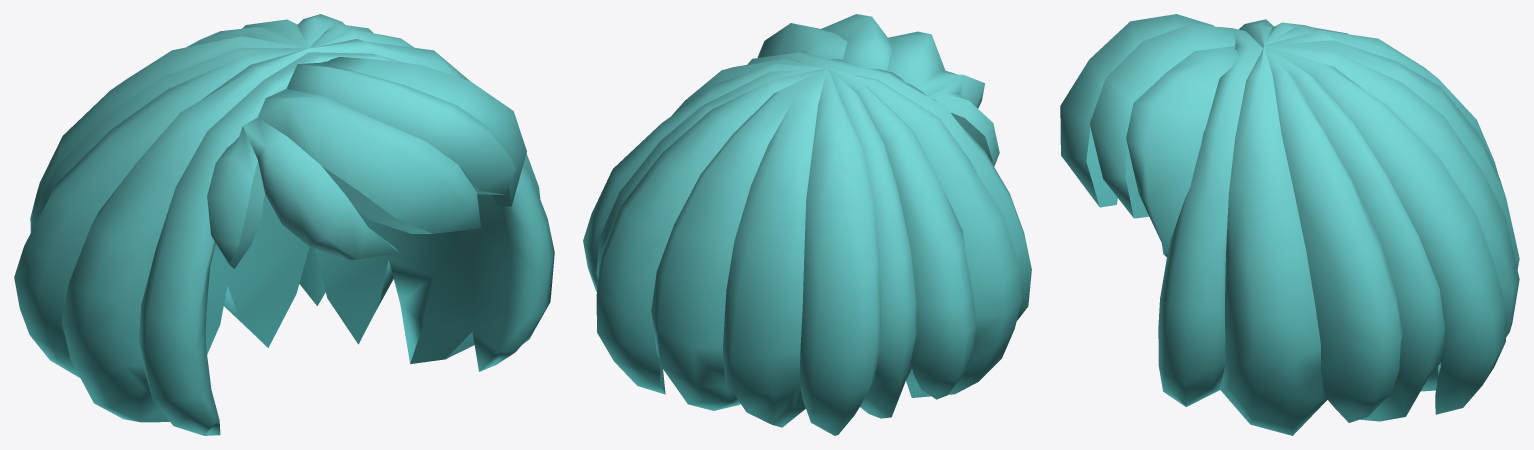
File: Hair_24.fbx
3 renders of one model, left to right at view 1: azimuth 30°, elevation 25°; view 2: azimuth 150°, elevation 25°; view 3: azimuth 270°, elevation 25°, orthographic. The views are drawn at different scales.
Parts seen in each view (by area): view 1: Hair_24; view 2: Hair_24; view 3: Hair_24.
Part boxes in pixels (x1=…): Hair_24: x1=14, y1=14, x2=554, y2=435; Hair_24: x1=583, y1=14, x2=1031, y2=435; Hair_24: x1=1060, y1=14, x2=1519, y2=435.
Size of the model in its own units: 72.74 by 56.46 by 67.85.
